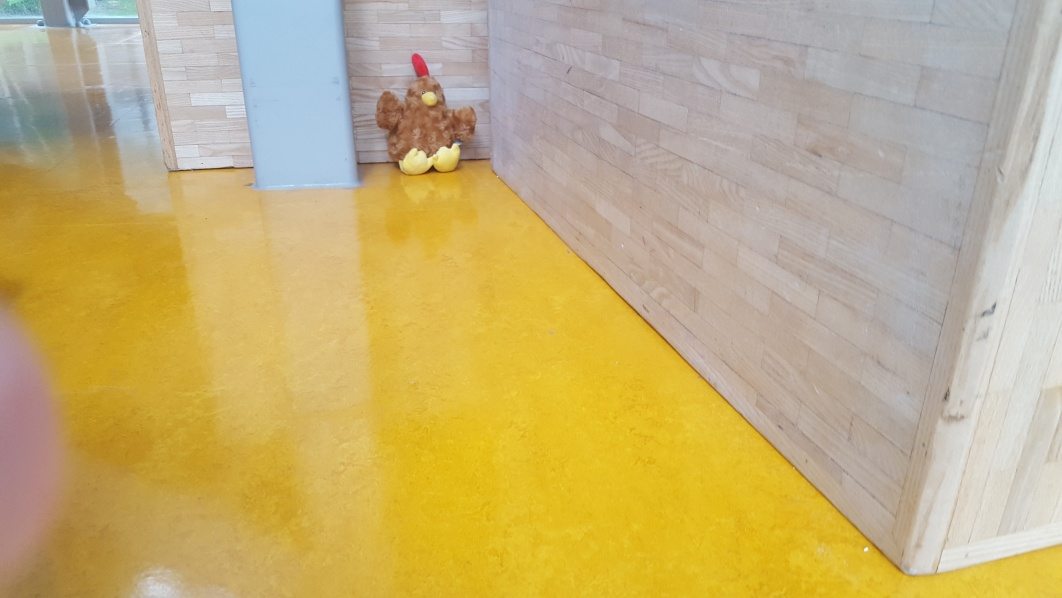chicken: (377, 53, 480, 178)
